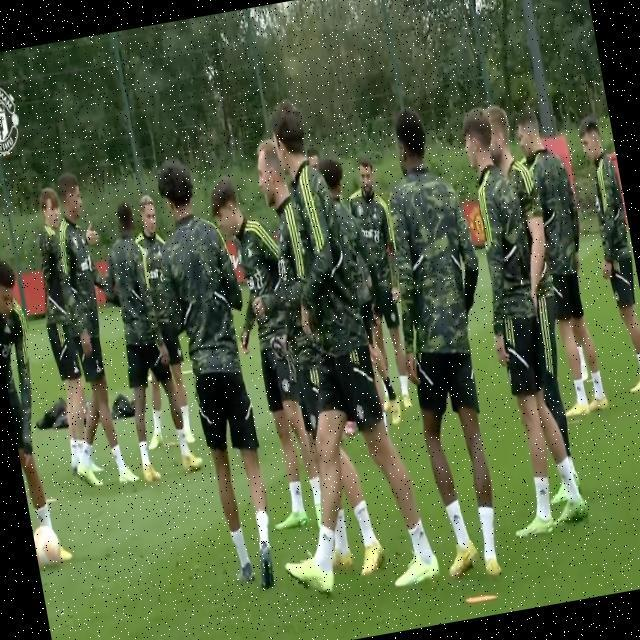Adidas: (450, 509, 462, 525), (536, 485, 548, 499)
